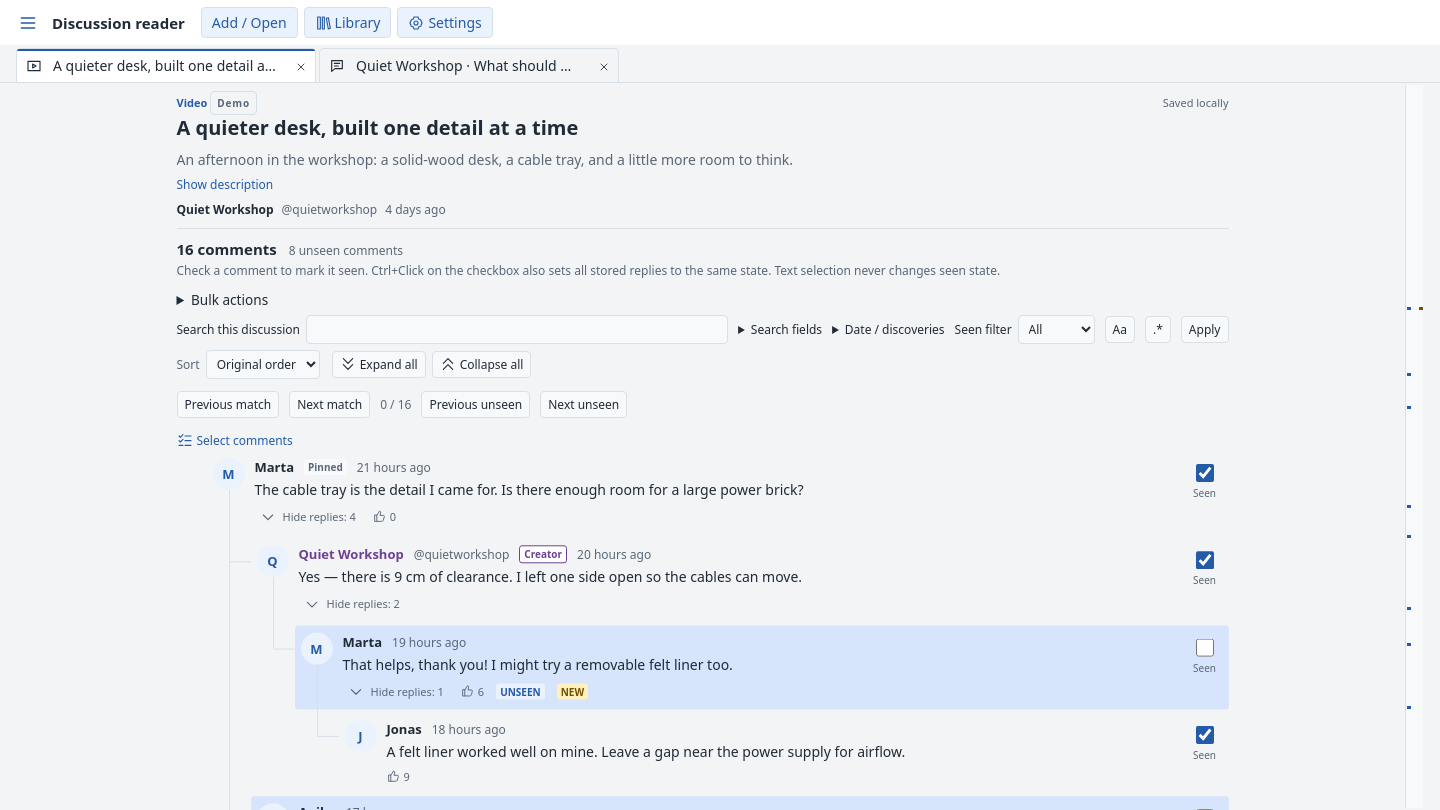
it: closes a background tab independently and Library reopens it; closing all shows a useful empty workspace
The image size is (1440, 810).
Step 1. Click the button named "Close tab: Quiet Workshop" → (604, 66), box [593,52,615,79]
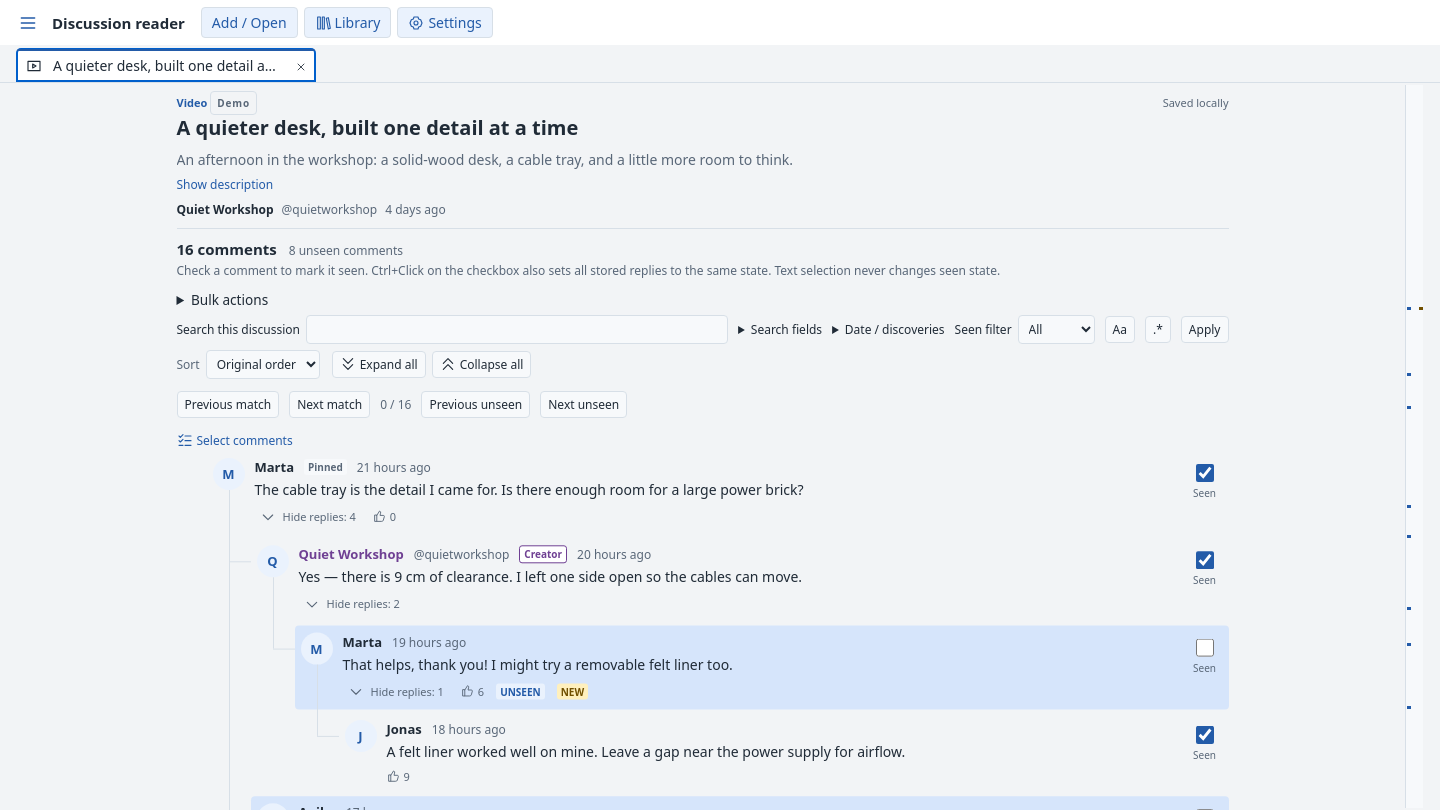
Step 2. Click the button "Library" → (348, 22), box [304,7,391,38]
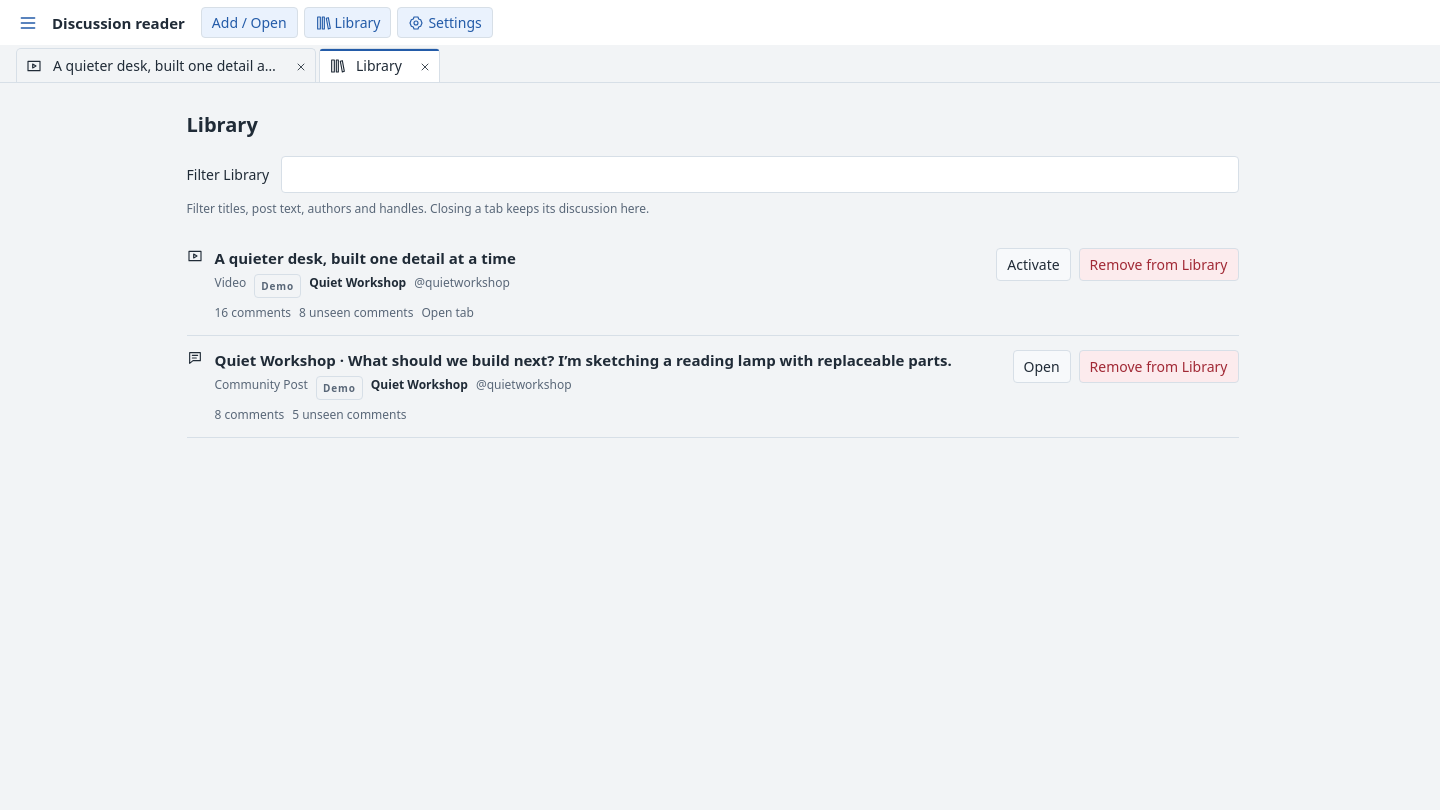
Step 3. Click the button "Open" → (1042, 366), box [1012,350,1071,383]
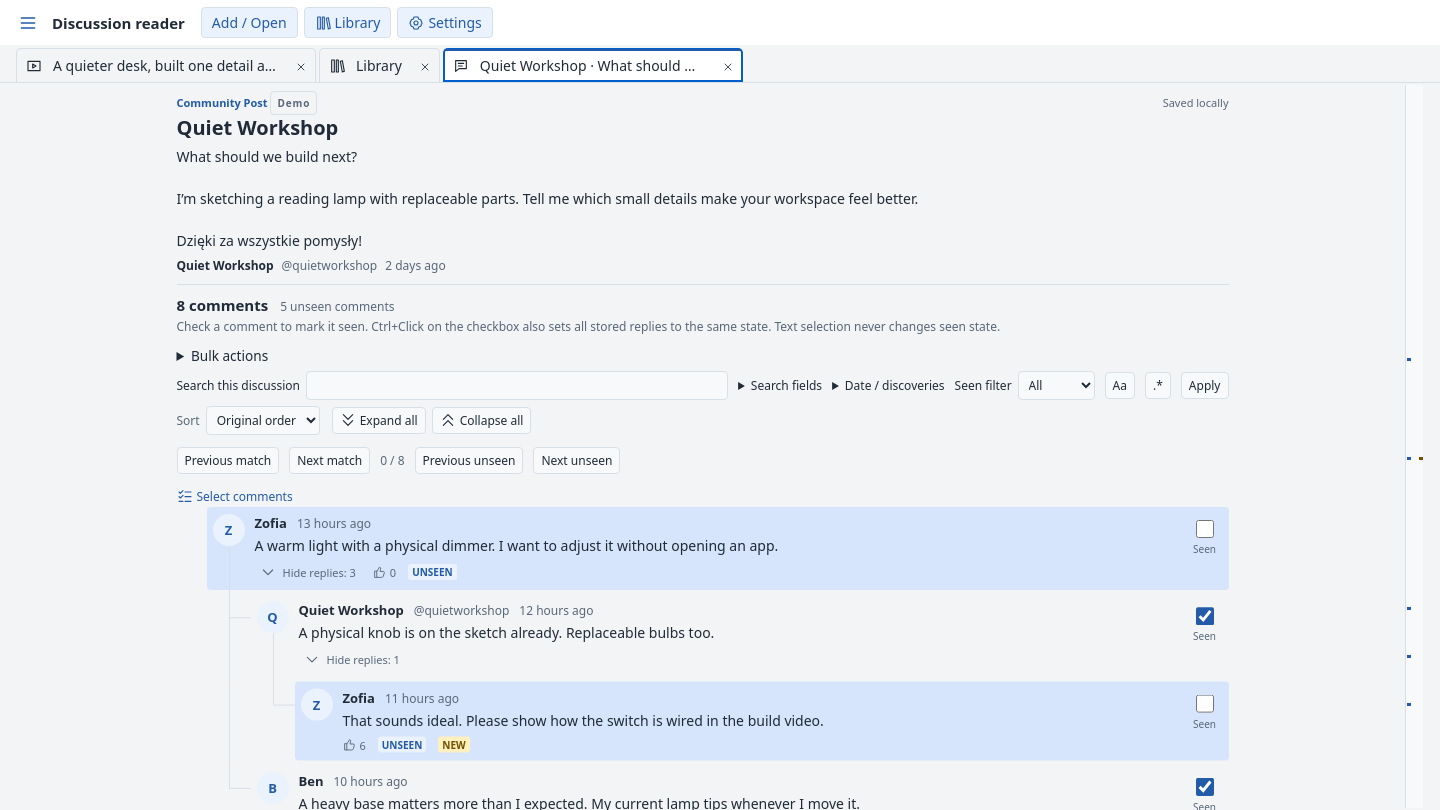
Step 4. Click the button named "Close tab: Library" → (425, 66), box [414,52,436,79]
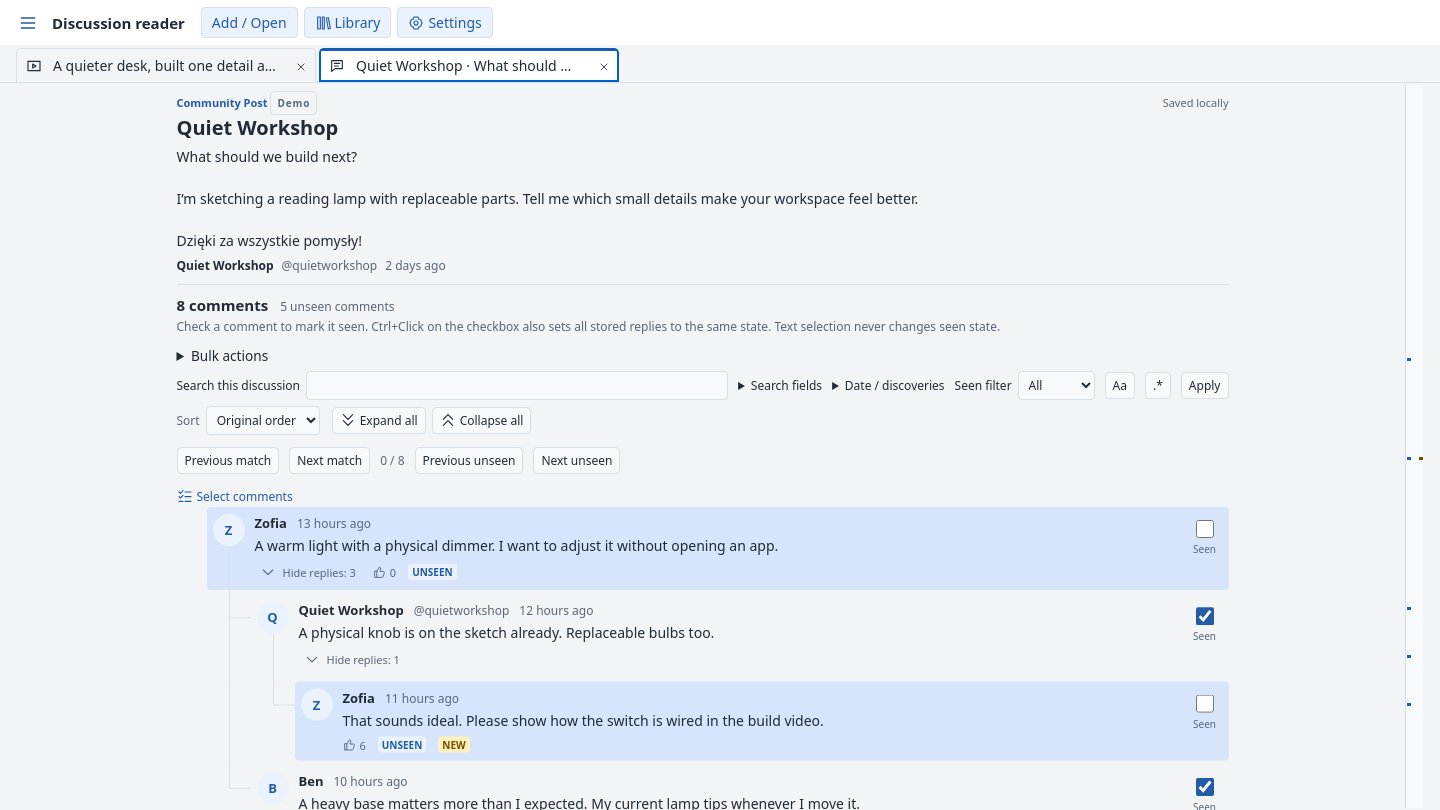
Step 5. Click the button named "Close tab: A quieter desk, built one detail at a time" → (301, 66), box [290,52,312,79]
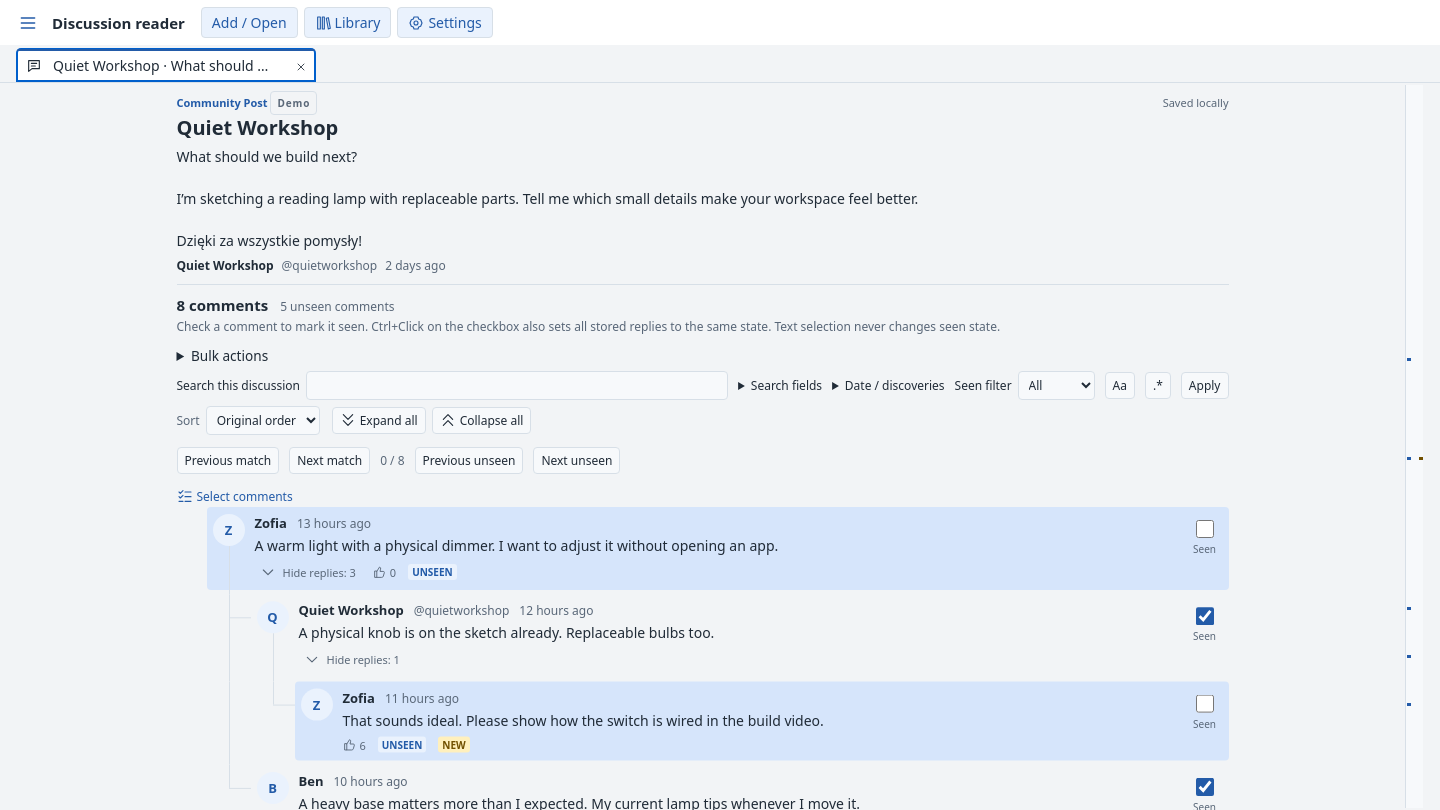
Step 6. Click the button named "Close tab: Quiet Workshop" → (301, 66), box [290,52,312,79]
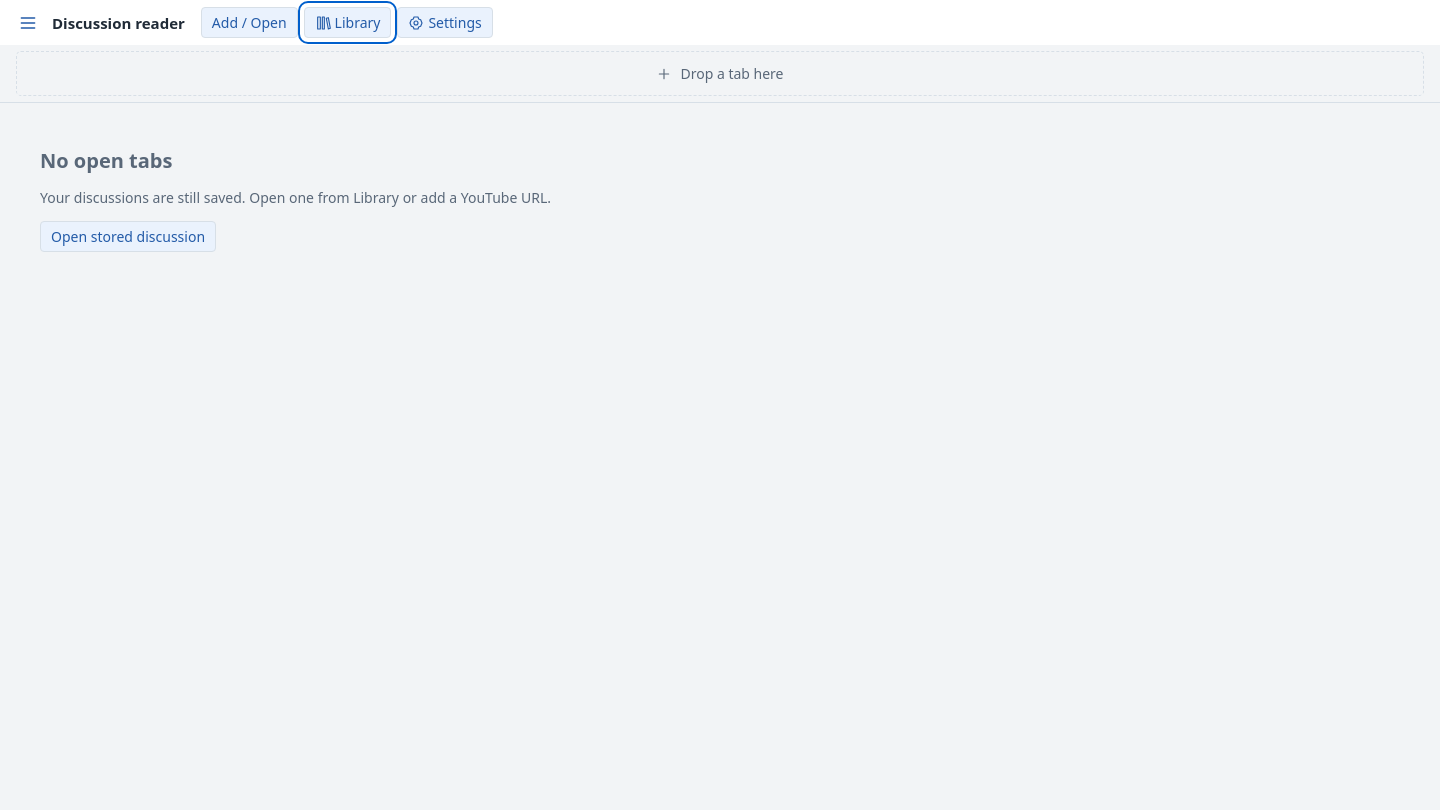
Expected: the heading "No open tabs" is shown, [40,147,172,174]
